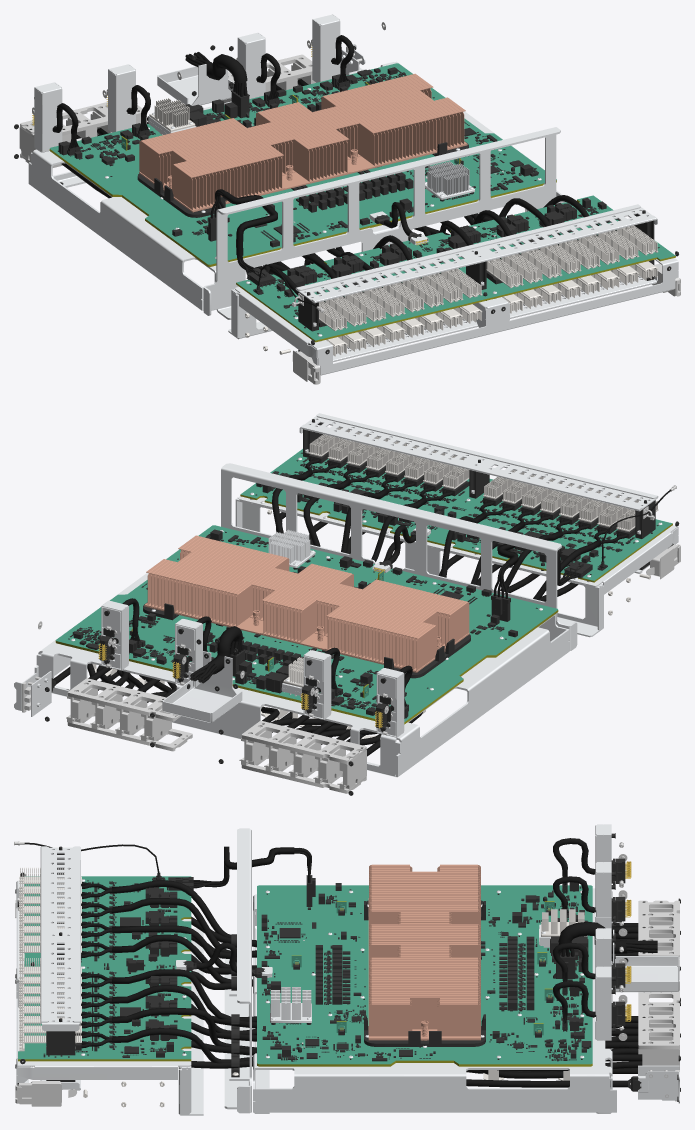
Rendered from sidecar-int-0.glb.
3 views of the same model, one above another, from view 1: azimuth 30°, elevation 25°; view 2: azimuth 150°, elevation 25°; view 3: azimuth 270°, elevation 25° (orthographic). The views are drawn at different scales.
Visible parts, largest first — view 1: Cube.050, Plane.030, Plane.027, Plane.026, Plane.032, Plane.034, Plane.033, NurbsPath.001, NurbsPath.003, Plane.040, Plane.039, Plane.035 (+28 smaller); view 2: Cube.050, Plane.030, Plane.026, Plane.027, NurbsPath.001, Plane.032, Plane.034, Plane.028, Plane.039, Plane.033, Cube.19688, Cube.19689 (+21 smaller); view 3: Plane.030, Cube.050, Plane.026, NurbsPath.001, Plane.032, Plane.034, Plane.027, Plane.033, NurbsPath.003, Cube.19689, Plane.039, Plane.028 (+15 smaller).
Boxes of the visible parts, bbox=[...] form: Cube.050: bbox=[139, 73, 467, 212]; Plane.030: bbox=[49, 63, 556, 266]; Plane.027: bbox=[203, 127, 565, 319]; Plane.026: bbox=[28, 61, 562, 310]; Plane.032: bbox=[236, 195, 675, 342]; Plane.034: bbox=[295, 204, 657, 303]; Plane.033: bbox=[235, 258, 678, 375]; NurbsPath.001: bbox=[61, 79, 616, 302]; NurbsPath.003: bbox=[52, 35, 412, 236]; Plane.040: bbox=[295, 275, 657, 365]; Plane.039: bbox=[157, 64, 234, 105]; Plane.035: bbox=[34, 82, 62, 152]; Cube.050: bbox=[144, 535, 469, 672]; Plane.030: bbox=[55, 525, 558, 724]; Plane.026: bbox=[34, 549, 569, 777]; Plane.027: bbox=[221, 463, 577, 650]; NurbsPath.001: bbox=[53, 457, 627, 756]; Plane.032: bbox=[240, 449, 672, 582]; Plane.034: bbox=[299, 413, 658, 511]; Plane.028: bbox=[235, 496, 603, 637]; Plane.039: bbox=[162, 651, 242, 722]; Plane.033: bbox=[239, 496, 678, 594]; Cube.19688: bbox=[241, 720, 366, 763]; Cube.19689: bbox=[67, 678, 181, 721]; Plane.030: bbox=[257, 885, 592, 1066]; Cube.050: bbox=[368, 864, 480, 1040]; Plane.026: bbox=[253, 888, 616, 1113]; NurbsPath.001: bbox=[81, 880, 642, 1087]; Plane.032: bbox=[18, 876, 191, 1061]; Plane.034: bbox=[40, 846, 80, 1031]; Plane.027: bbox=[224, 828, 251, 1113]; Plane.033: bbox=[16, 880, 191, 1084]; NurbsPath.003: bbox=[196, 838, 595, 1023]; Cube.19689: bbox=[638, 991, 679, 1049]; Plane.039: bbox=[613, 929, 679, 992]; Plane.028: bbox=[178, 928, 203, 1115].
Bounding box in the file's own units: 0.5367 × 0.1428 × 0.801.
